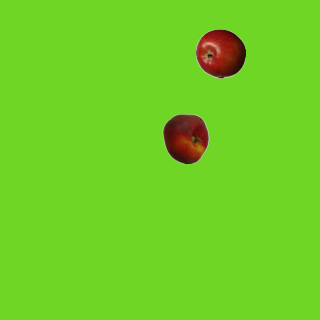Apple Braeburn: (195, 28, 245, 78)
Nectarine Flat: (160, 113, 210, 163)
